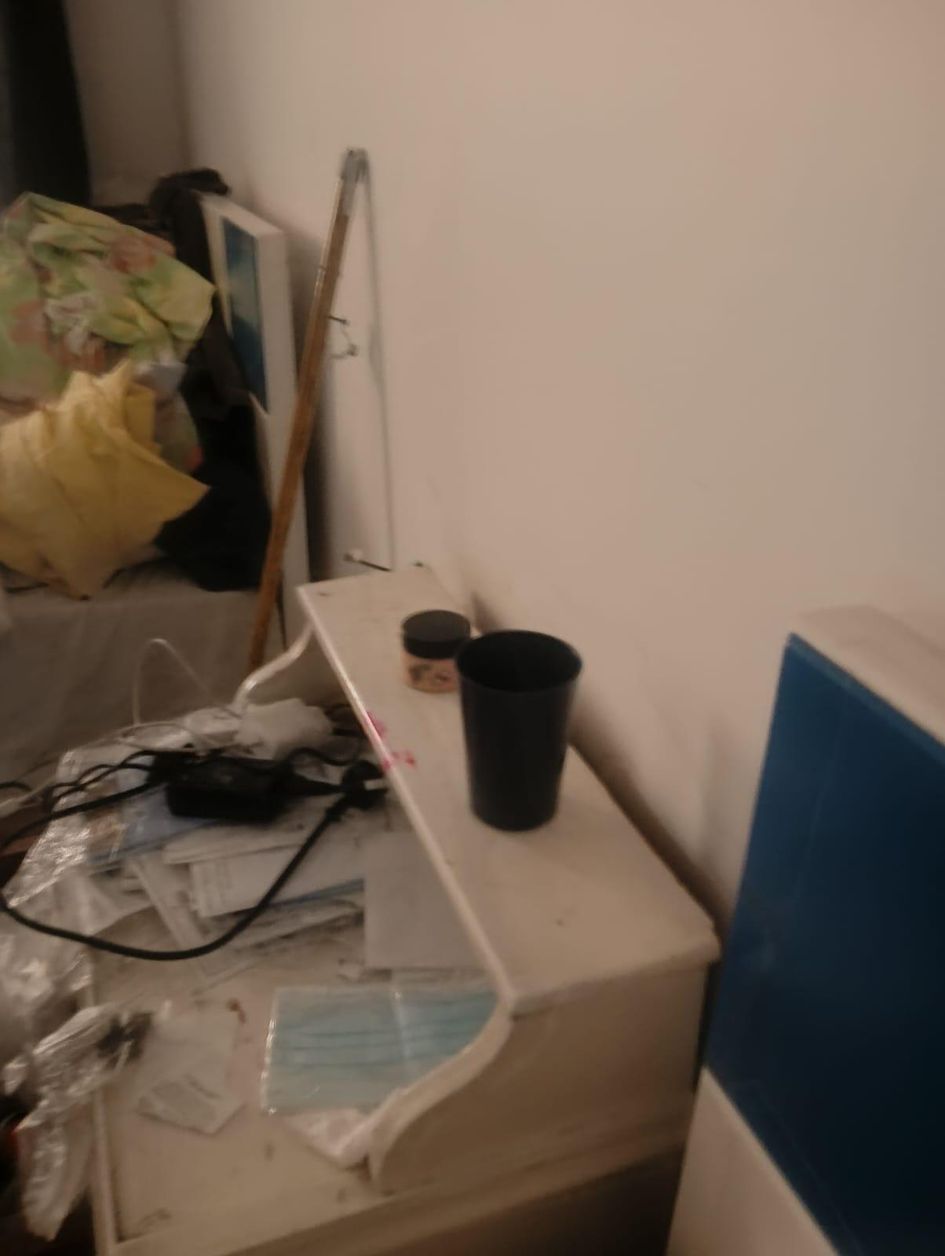cup: (456, 630, 582, 832)
